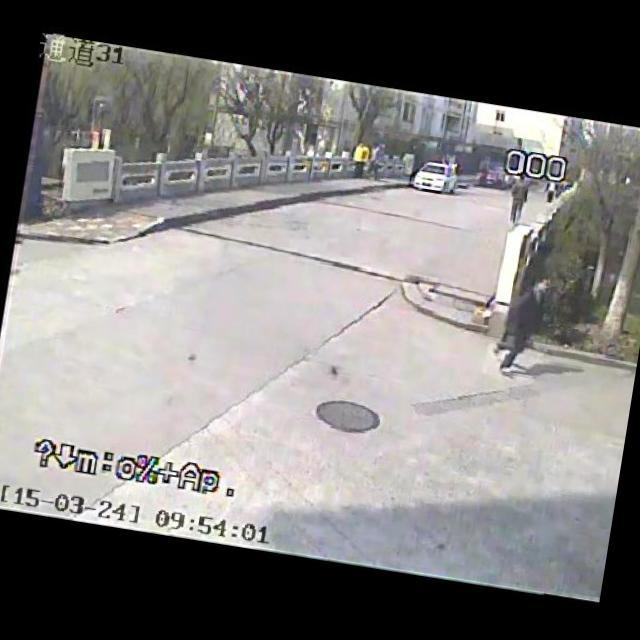person: (486, 269, 554, 394), (499, 172, 535, 232), (363, 138, 397, 190), (349, 142, 371, 190), (542, 174, 560, 210)
